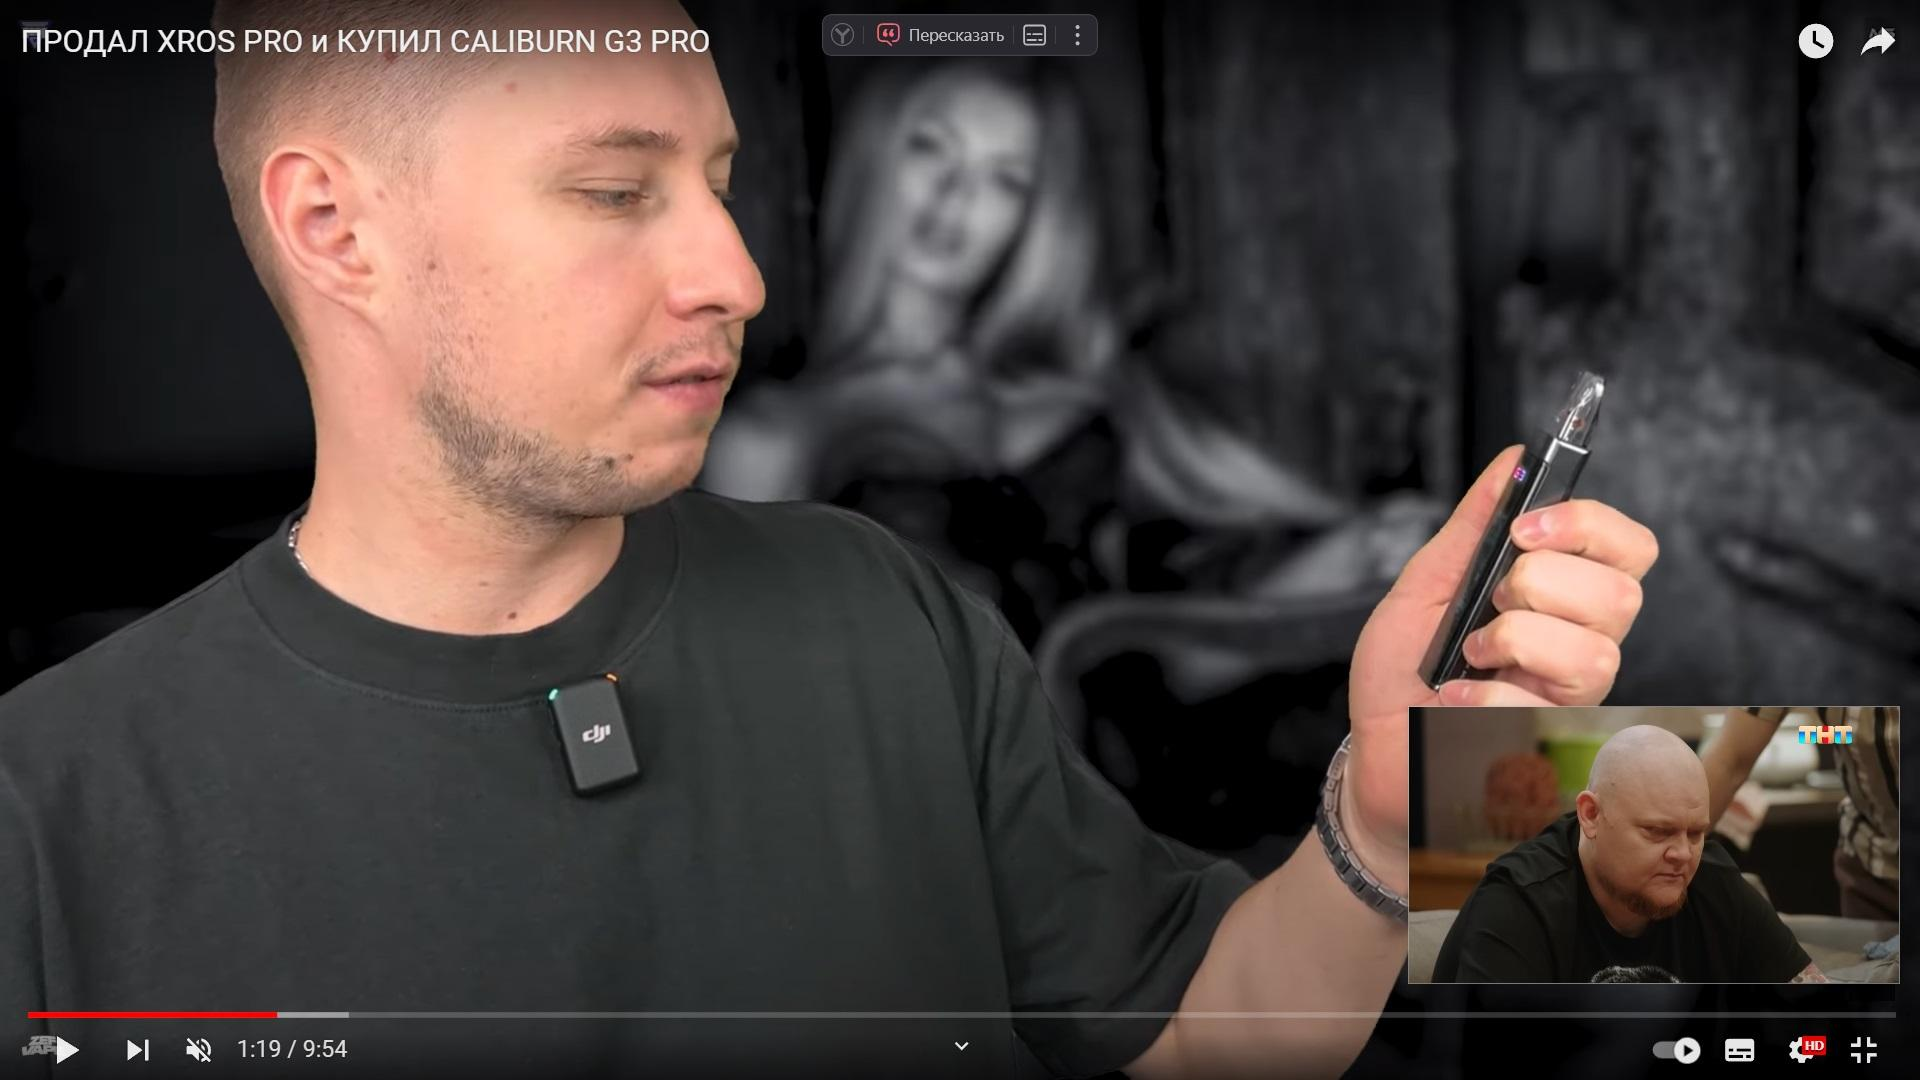Vape: (1425, 372, 1604, 687)
